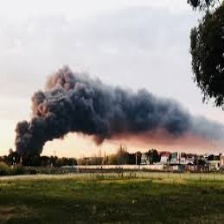smoke: (6, 62, 192, 162)
